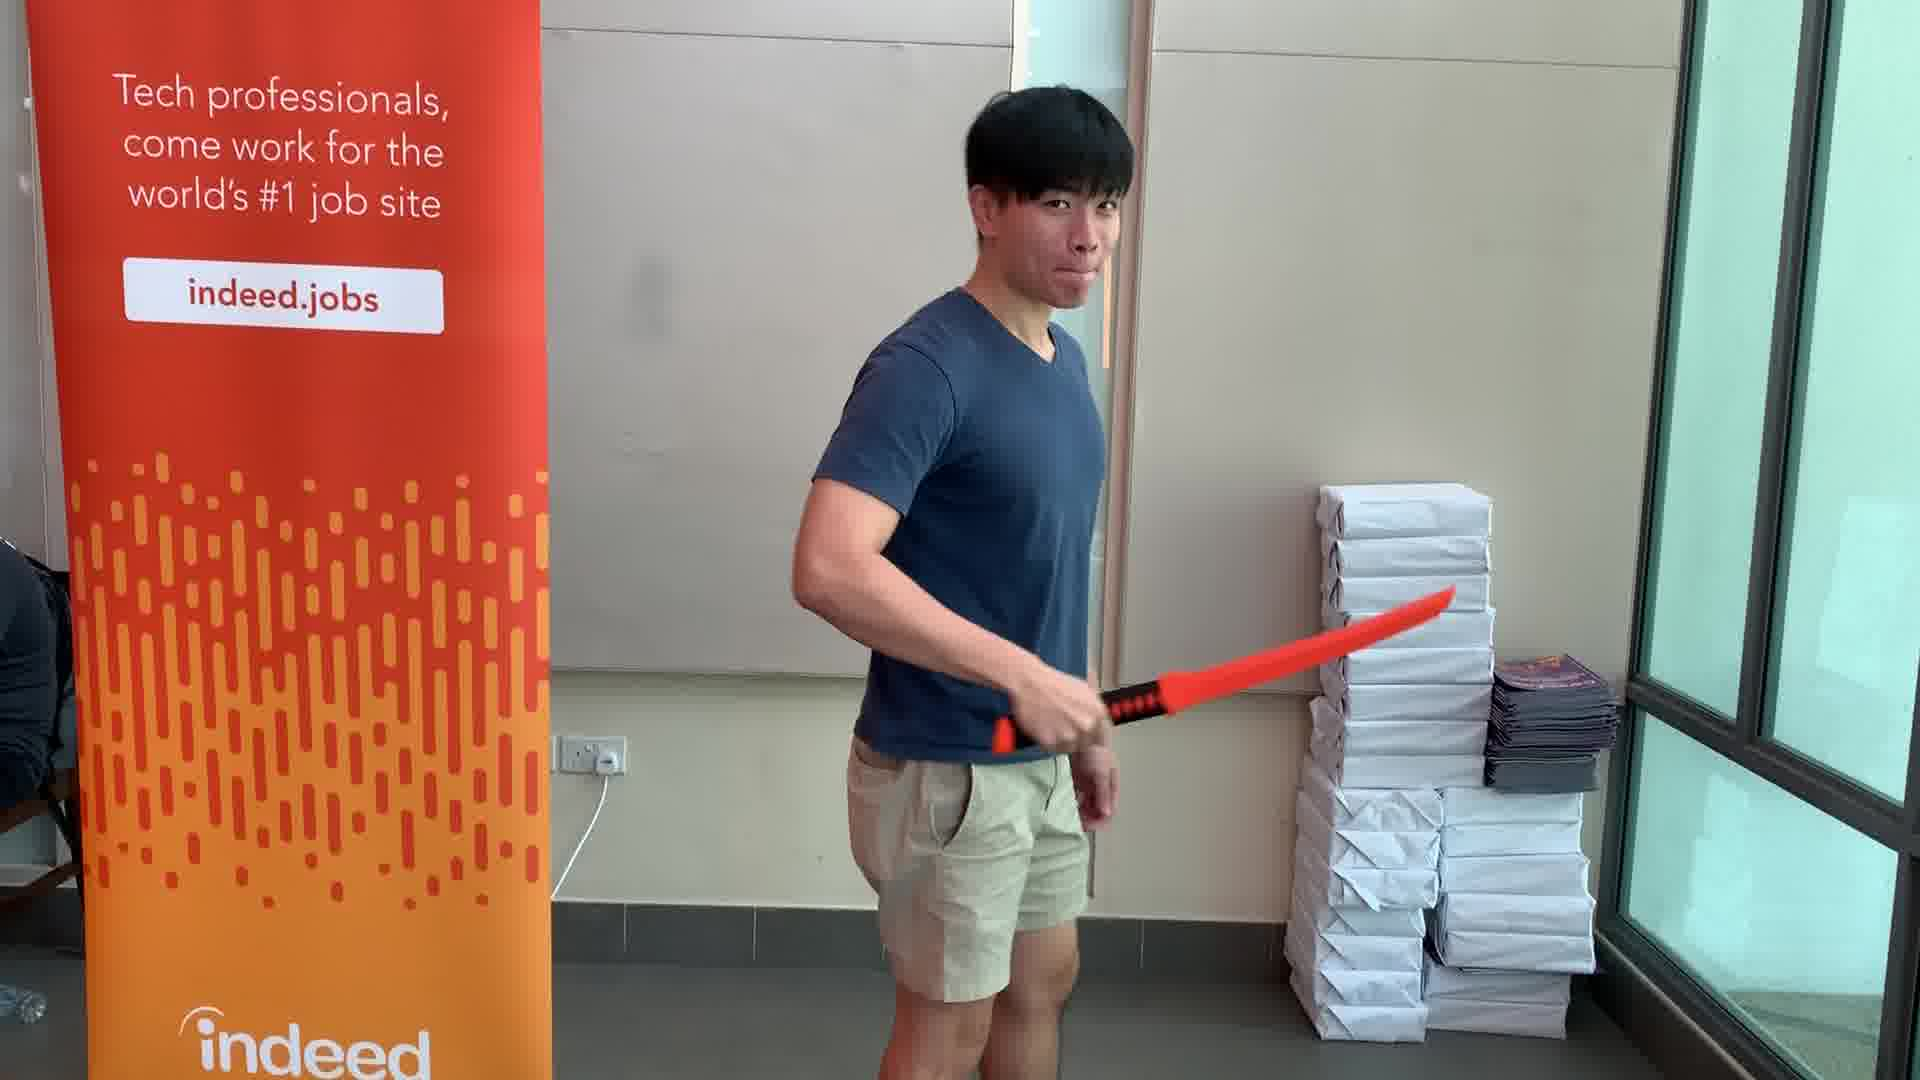knife: (982, 576, 1468, 766)
